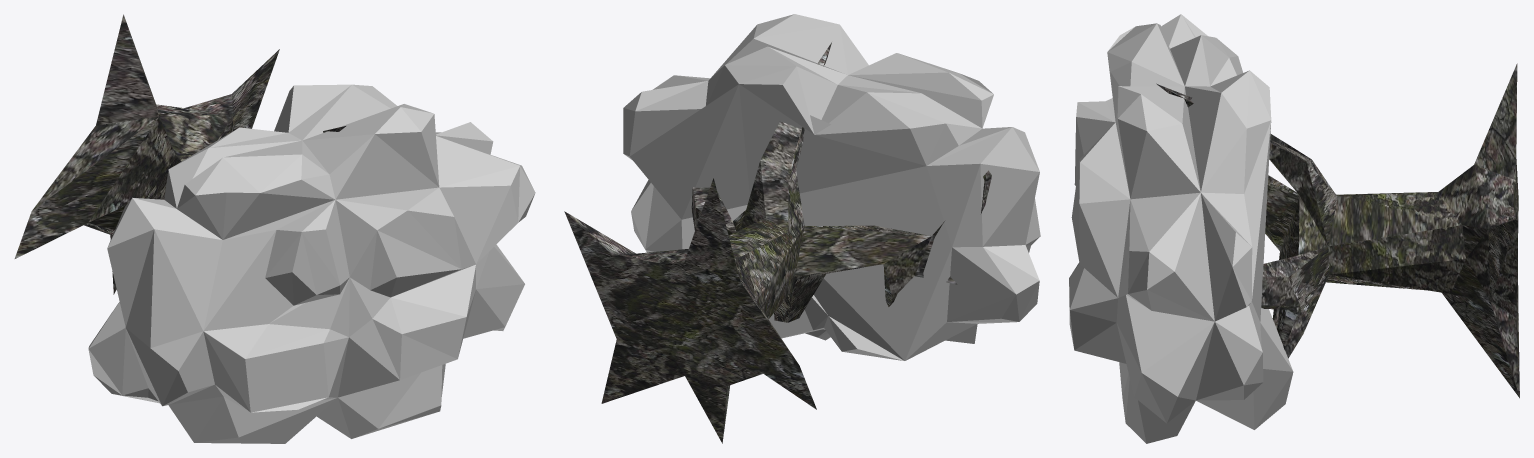
Rendered from tree462_wtf.obj.
3 views of the same model, side by side, from view 1: azimuth 30°, elevation 25°; view 2: azimuth 150°, elevation 25°; view 3: azimuth 270°, elevation 25° (orthographic). The views are drawn at different scales.
Parts seen in each view (by area): view 1: group3, group2; view 2: group3, group2; view 3: group3, group2.
Part boxes in pixels (bbox=[...]): group3: bbox=[88, 84, 535, 443]; group2: bbox=[14, 14, 345, 294]; group3: bbox=[623, 14, 1040, 360]; group2: bbox=[564, 42, 991, 443]; group3: bbox=[1069, 14, 1293, 443]; group2: bbox=[1156, 63, 1519, 398].
Bounding box in the file's own units: 660 × 488 × 586.
